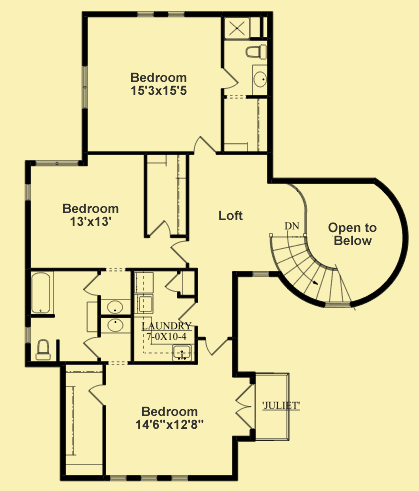door: (233, 381, 257, 426), (217, 57, 239, 92), (177, 303, 202, 328), (168, 238, 192, 263), (202, 334, 227, 358), (189, 133, 217, 154), (85, 382, 110, 405), (79, 332, 101, 357), (81, 272, 100, 297), (148, 217, 171, 237), (161, 272, 180, 293)
large sink: (240, 41, 272, 62), (34, 337, 55, 361)
small sink: (247, 63, 269, 96)
stairs: (267, 220, 356, 310)
tub: (29, 269, 56, 317)
windows: (105, 471, 192, 485), (131, 7, 190, 23), (29, 155, 83, 172), (77, 60, 92, 112), (23, 179, 33, 207), (24, 319, 33, 346)
